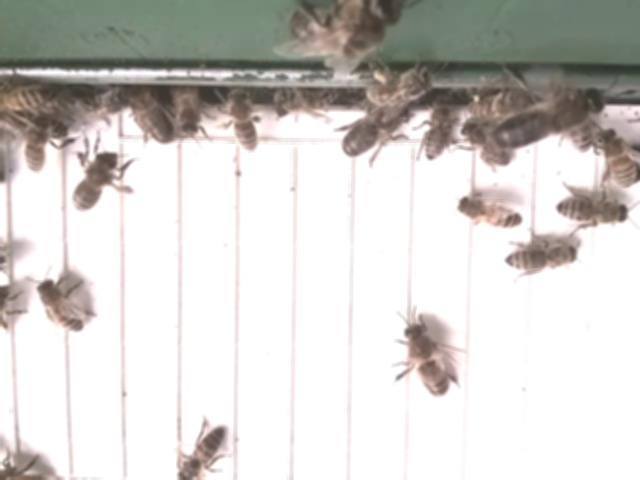Drone: (399, 321, 455, 403), (338, 105, 411, 162), (122, 85, 178, 152)
Worker: (171, 424, 229, 480), (70, 150, 118, 215), (35, 277, 86, 337), (498, 243, 580, 278), (450, 195, 526, 231), (552, 195, 632, 228), (598, 126, 638, 192), (418, 99, 454, 166), (226, 86, 258, 156), (18, 117, 46, 178)
